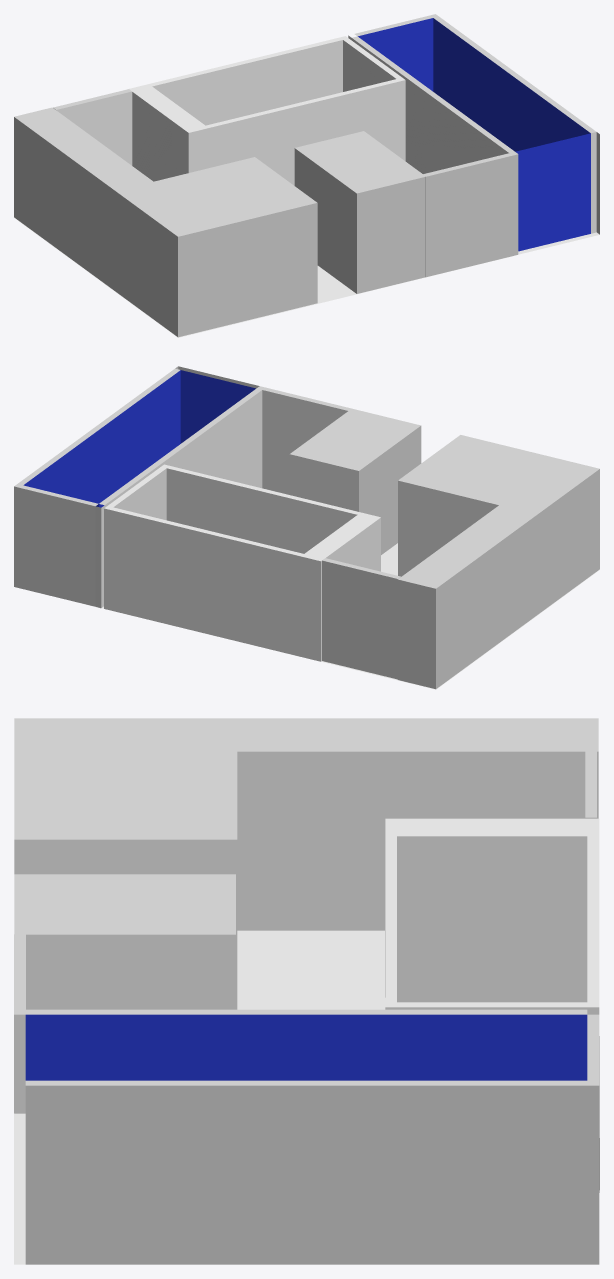
Rendered from testeotexturas2.glb.
3 renders of one model, top to bottom at view 1: azimuth 30°, elevation 25°; view 2: azimuth 150°, elevation 25°; view 3: azimuth 270°, elevation 25°, orthographic. The views are drawn at different scales.
Visible parts, largest first — view 1: Plane, cuarto principal.001, cuarto principal, Plane.001, Plane.002, Plane.003; view 2: Plane, cuarto principal, cuarto principal.001, Plane.001, Plane.002, Plane.003; view 3: cuarto principal.001, Plane, cuarto principal, Plane.001, Plane.003, Plane.002.
Boxes of the visible parts, bbox=[...] form: Plane: bbox=[14, 107, 317, 337]; cuarto principal.001: bbox=[348, 14, 599, 277]; cuarto principal: bbox=[129, 36, 405, 185]; Plane.001: bbox=[294, 131, 425, 293]; Plane.002: bbox=[53, 89, 132, 165]; Plane.003: bbox=[14, 218, 511, 337]; Plane: bbox=[397, 435, 599, 689]; cuarto principal: bbox=[104, 464, 380, 661]; cuarto principal.001: bbox=[14, 366, 351, 608]; Plane.001: bbox=[289, 408, 421, 554]; Plane.002: bbox=[322, 558, 400, 679]; Plane.003: bbox=[102, 543, 599, 689]; cuarto principal.001: bbox=[14, 934, 599, 1264]; Plane: bbox=[14, 718, 598, 1009]; cuarto principal: bbox=[385, 818, 599, 1009]; Plane.001: bbox=[14, 874, 235, 1113]; Plane.003: bbox=[237, 930, 385, 1009]; Plane.002: bbox=[585, 751, 596, 818].
Bounding box in the file's own units: 14.58 × 3.35 × 9.85.
